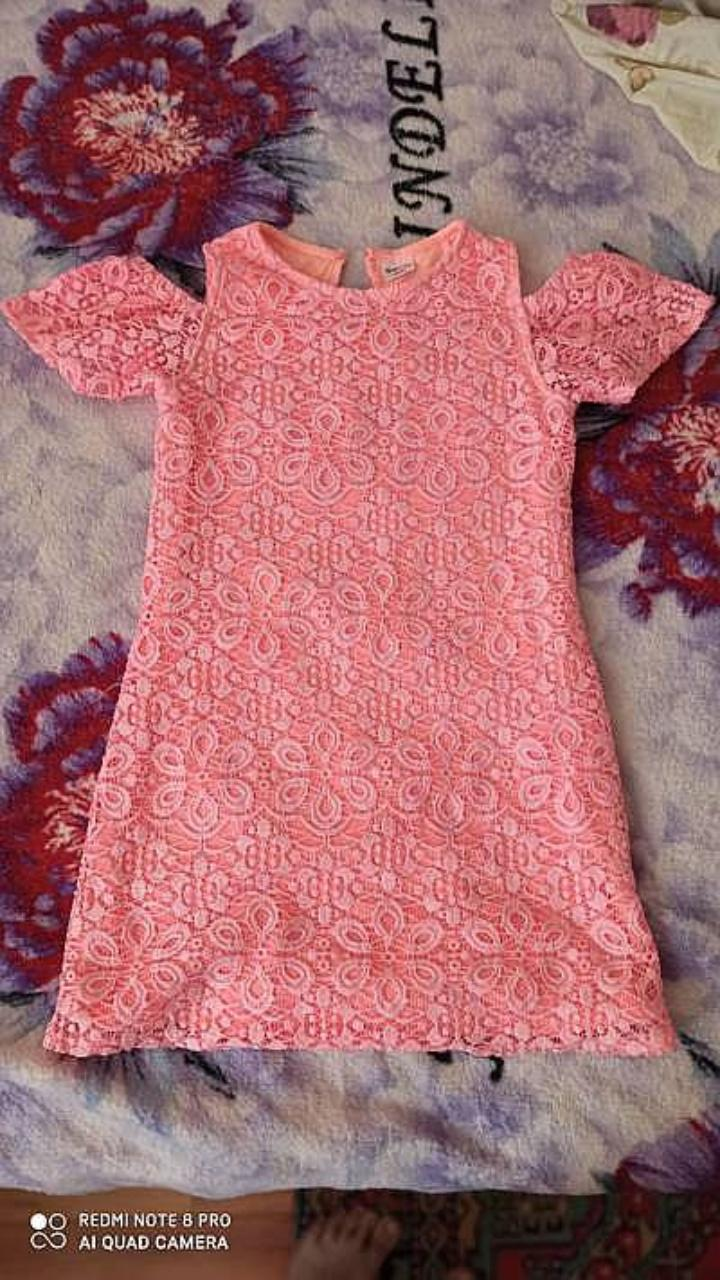Dresses: (0, 218, 713, 1055)
